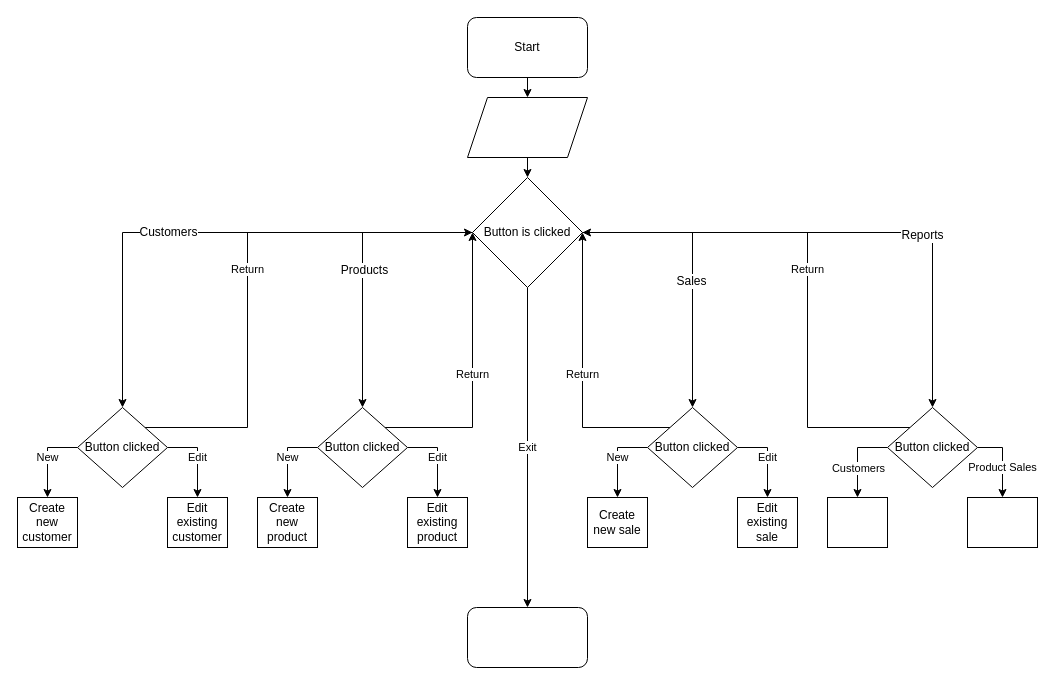
Some shapes in this 1055 by 685 pixel diagram are drawn without their labels. Here are the shapes that lost their labels. From the top down, the centre of each, then its label:
(527,127): User input, click
(857,522): Make customers report
(1002,522): Make product sales report
(527,637): End
